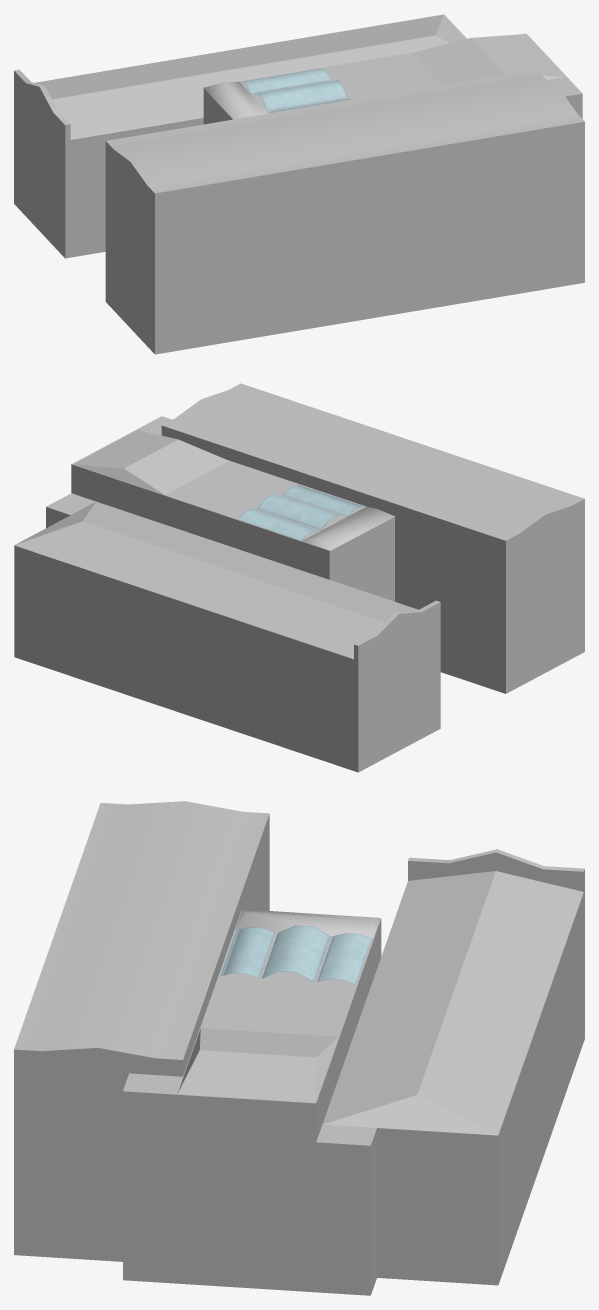
File: BLOQUE13_LOD2.fbx
3 renders of one model, top to bottom at view 1: azimuth 30°, elevation 25°; view 2: azimuth 150°, elevation 25°; view 3: azimuth 270°, elevation 25°, orthographic. The views are drawn at different scales.
Parts seen in each view (by area): view 1: Plane002.001, Plane, Plane.007, Plane007.001, Plane003.001, Plane006.001; view 2: Plane002.001, Plane, Plane.007, Plane003.001, Plane007.001, Plane006.001, Plane005.001; view 3: Plane002.001, Plane, Plane.007, Plane003.001, Plane007.001, Plane006.001, Plane005.001.
Boxes of the visible parts, x1,y1,x2,y2 form: Plane002.001: (14,33,584,354); Plane: (34,14,466,139); Plane.007: (411,34,564,84); Plane007.001: (254,80,347,111); Plane003.001: (203,81,268,119); Plane006.001: (241,68,331,93); Plane002.001: (14,383,584,772); Plane: (14,501,418,659); Plane.007: (73,430,228,494); Plane003.001: (302,506,394,550); Plane007.001: (257,493,342,530); Plane006.001: (238,509,318,540); Plane005.001: (283,485,364,516); Plane002.001: (14,801,584,1295); Plane: (322,871,583,1135); Plane.007: (177,1028,338,1102); Plane003.001: (235,909,380,938); Plane007.001: (262,925,330,981); Plane006.001: (317,933,371,984); Plane005.001: (220,927,274,978).
Size of the model in its own units: 4437 by 1530 by 3725.
